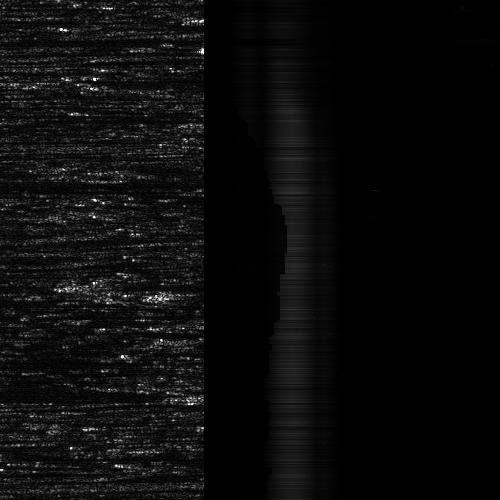shadow: (0, 37, 118, 46), (0, 179, 140, 186), (0, 112, 138, 117), (0, 186, 77, 193), (0, 38, 99, 41)
